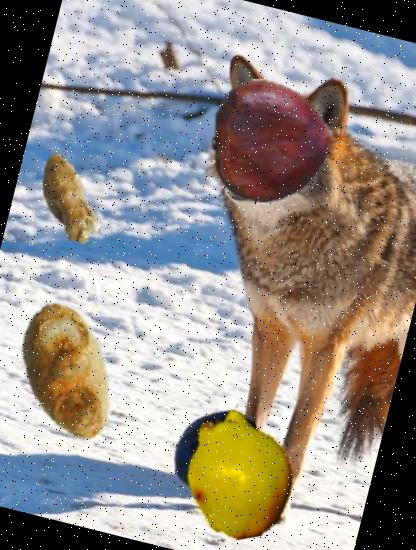Blueberry: (162, 399, 274, 512)
Chestnut: (198, 66, 350, 218)
Ginger: (0, 285, 155, 460), (10, 141, 127, 258)
Quince: (162, 396, 318, 550)
